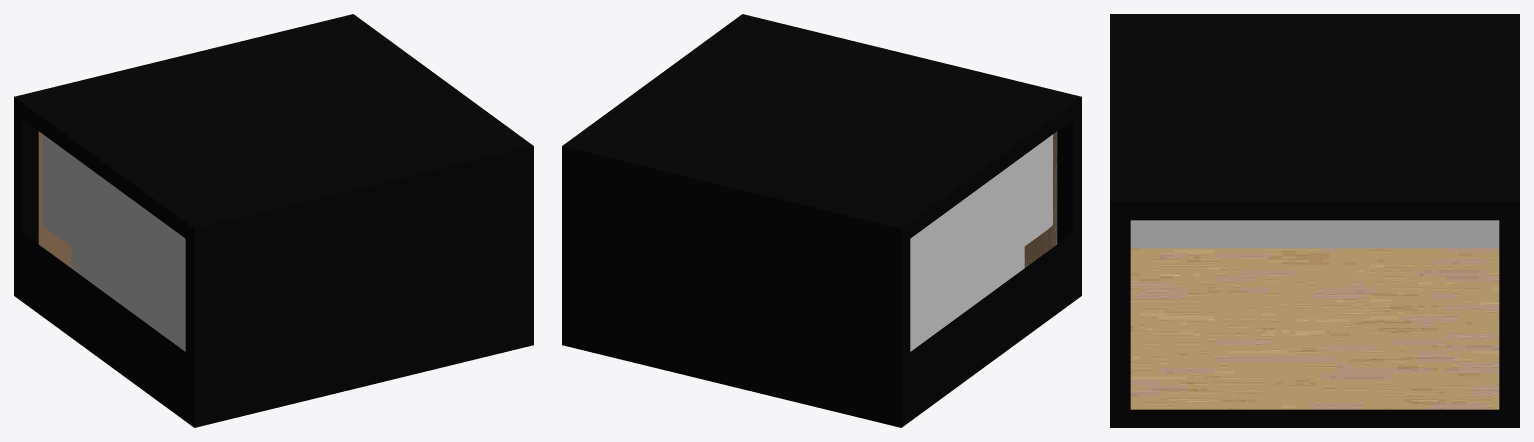
Rendered from chambre.glb.
3 views of the same model, side by side, from view 1: azimuth 30°, elevation 25°; view 2: azimuth 150°, elevation 25°; view 3: azimuth 270°, elevation 25° (orthographic). The views are drawn at different scales.
Visible parts, largest first — view 1: Chambre1; view 2: Chambre1; view 3: Chambre1.
Boxes of the visible parts, left/top/right/bottom form: Chambre1: left=14, top=14, right=533, bottom=427; Chambre1: left=562, top=14, right=1081, bottom=427; Chambre1: left=1110, top=14, right=1519, bottom=427.
Bounding box in the file's own units: 62.03 × 34.77 × 57.13.
8 materials, 2 textured.
